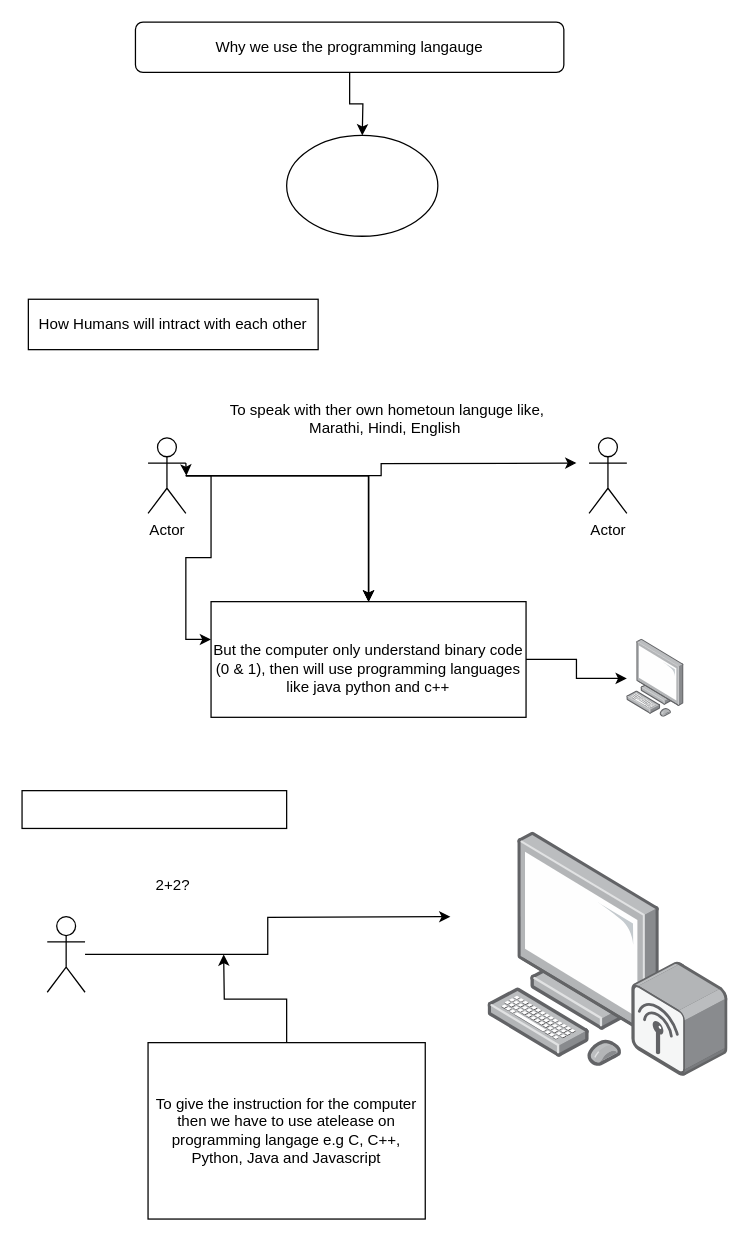
This 750x1241 diagram has some shape labels left out. The centre of each missing label's shape, as x and y in pixels:
How to communicate with the computer: point (154, 808)
Student: point (65, 953)
To Communicate with the computer: point (361, 185)
